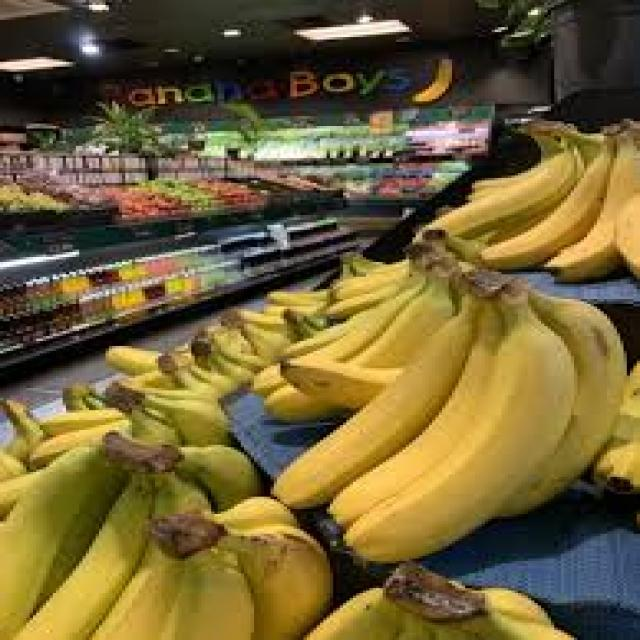Banana: (271, 273, 627, 566), (0, 425, 263, 640), (433, 116, 640, 284)
